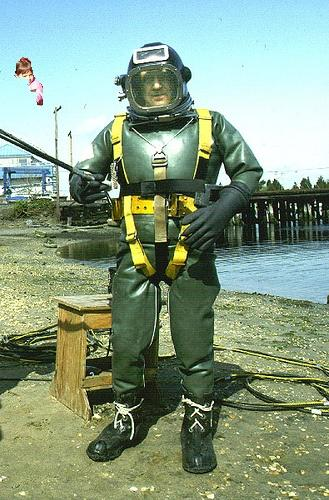tampered: (15, 58, 43, 106)
